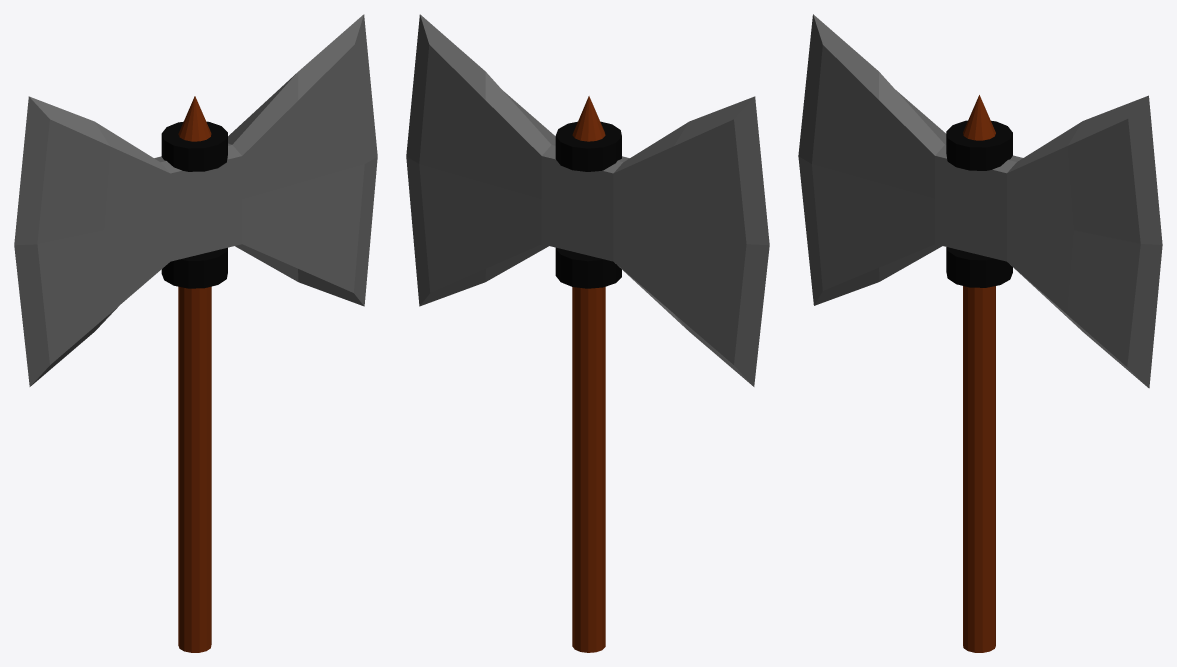
Rendered from Battle Axe.fbx.
3 views of the same model, side by side, from view 1: azimuth 30°, elevation 25°; view 2: azimuth 150°, elevation 25°; view 3: azimuth 330°, elevation 25° (orthographic).
Parts seen in each view (by area): view 1: Cube; view 2: Cube; view 3: Cube.
Part boxes in pixels (bbox=[...]): Cube: bbox=[14, 14, 377, 652]; Cube: bbox=[406, 14, 769, 652]; Cube: bbox=[798, 14, 1162, 652].
Size of the model in its own units: 204 by 316 by 32.03.
Materials: 1 (1 with a texture image).
